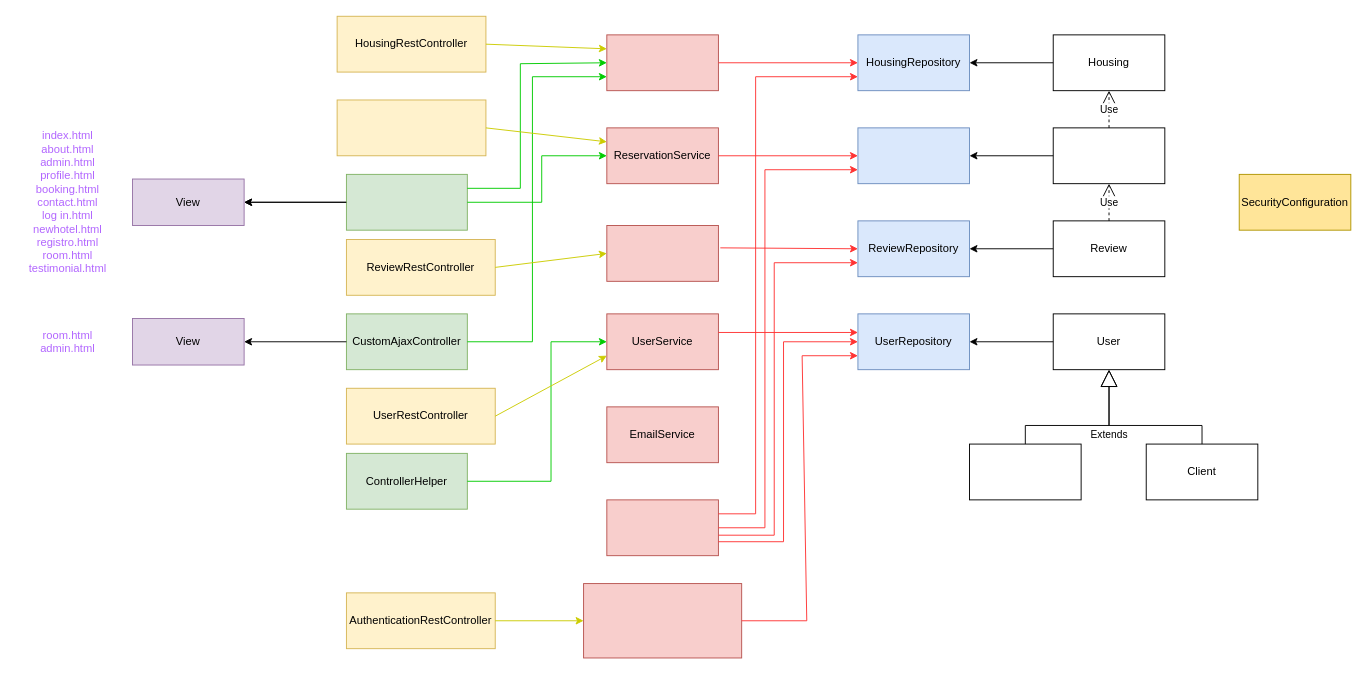
Image size: 1367x674. Some labels were removed from this diagram. The centre of each missing label's shape, as x and y in pixels:
"Admin" belongs at point (1025, 471).
"DatabaseInitializer" belongs at point (662, 527).
"HousingService" belongs at point (662, 62).
"MustacheController" belongs at point (406, 201).
"RepositoryUserDetailsService" belongs at point (662, 620).
"Reservation" belongs at point (1108, 155).
"ReservationRepository" belongs at point (913, 155).
"ReservationRestController" belongs at point (411, 127).
"ReviewService" belongs at point (662, 253).
